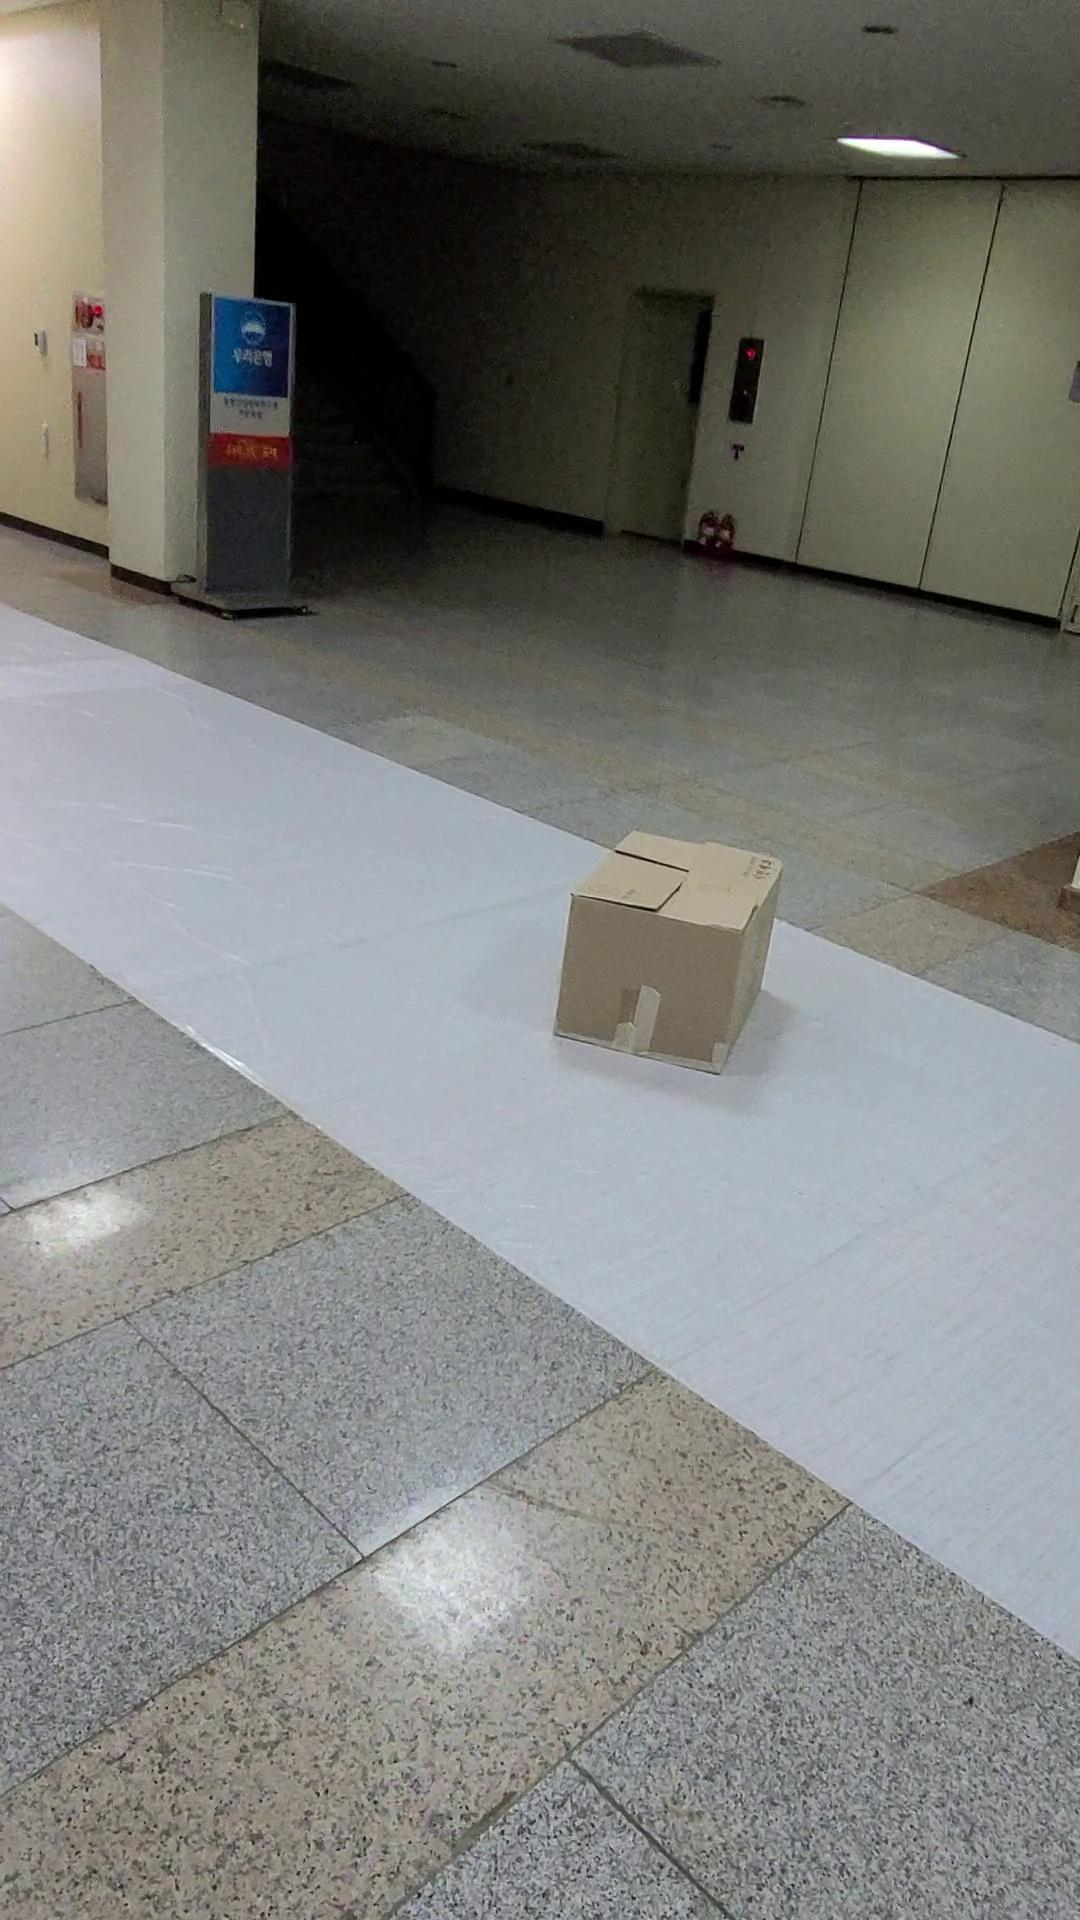Box: (541, 810, 793, 1092)
